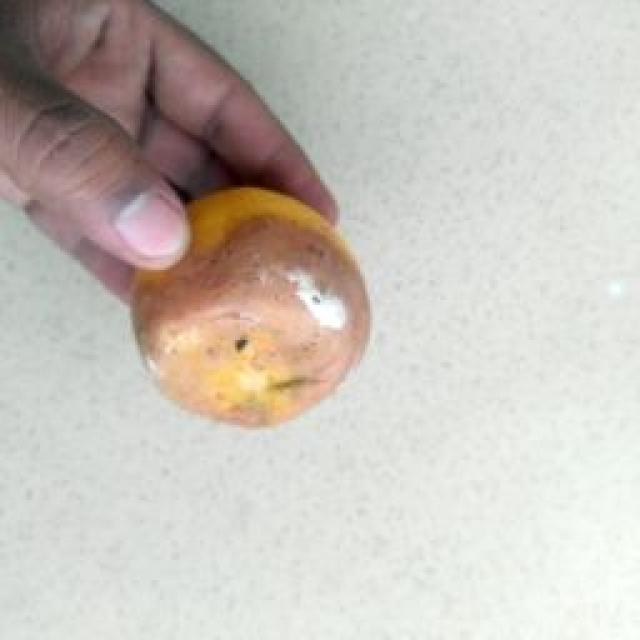Bad_Orange: (132, 188, 370, 426)
